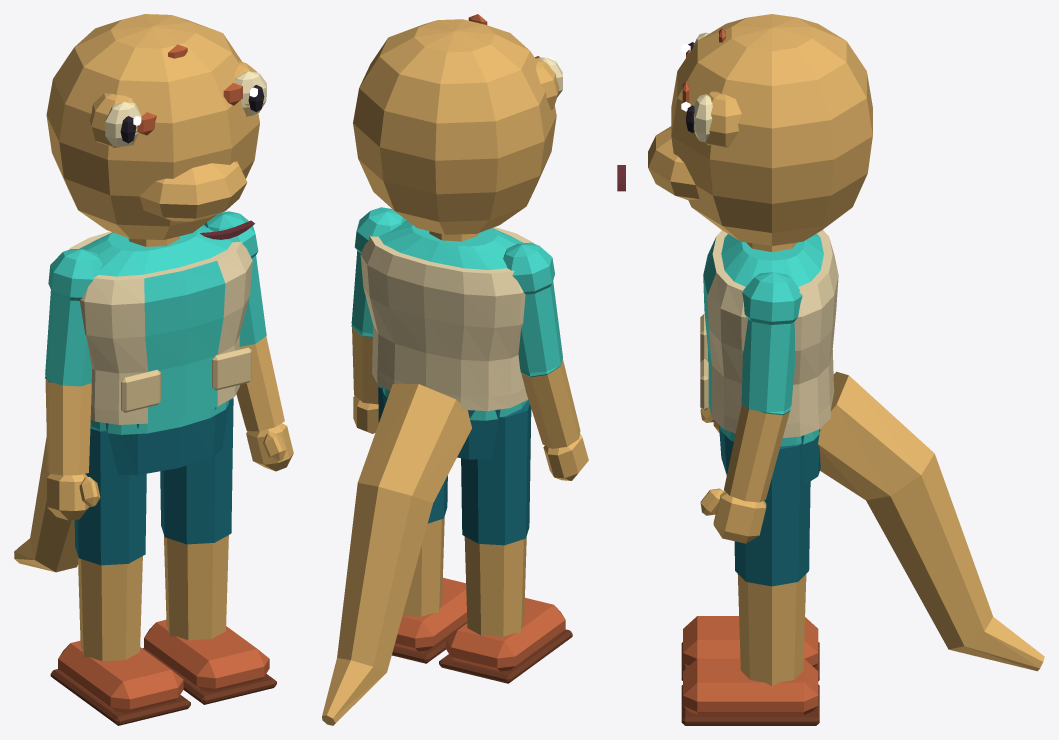
Rendered from dun-k3.glb.
3 renders of one model, left to right at view 1: azimuth 30°, elevation 25°; view 2: azimuth 150°, elevation 25°; view 3: azimuth 270°, elevation 25°, orthographic. The views are drawn at different scales.
Visible parts, largest first — view 1: kopf, weste, bein_r, bein_l, arm_r, schuh_r, schuh_l, torso, arm_l, becken, schnauze, augen (+4 smaller); view 2: kopf, schwanz, weste, bein_r, arm_r, schuh_r, torso, arm_l, schuh_l, bein_l, becken, hand_r (+2 smaller); view 3: kopf, schwanz, bein_l, weste, arm_l, schuh_l, torso, schuh_r, augen, hand_l, schnauze, becken (+1 smaller).
Boxes of the visible parts, x1,y1,x2,y2 form: kopf: (46,14,259,239); weste: (69,231,252,424); bein_r: (74,426,146,661); bein_l: (160,398,233,640); arm_r: (45,249,102,475); schuh_r: (50,641,190,725); schuh_l: (142,620,276,704); torso: (79,225,232,434); arm_l: (204,211,284,431); becken: (106,400,229,475); schnauze: (139,161,247,221); augen: (89,44,266,147); kopf: (353,19,556,234); schwanz: (322,384,471,725); weste: (360,227,534,410); bein_r: (461,400,531,636); arm_r: (503,242,580,448); schuh_r: (439,597,572,683); torso: (379,220,527,420); arm_l: (351,207,405,404); schuh_l: (392,577,467,663); bein_l: (378,385,447,616); becken: (382,387,500,459); hand_r: (543,434,588,480); kopf: (671,14,872,245); schwanz: (818,371,1044,671); bein_l: (734,443,810,685); weste: (703,230,838,437); arm_l: (724,272,802,502); schuh_l: (681,658,819,725); torso: (719,233,823,446); schuh_r: (681,616,819,680); augen: (681,28,741,147); hand_l: (700,488,766,543); schnauze: (648,126,699,199); becken: (719,425,820,484).
Bounding box in the file's own units: 0.00875 × 0.023 × 0.0135.
